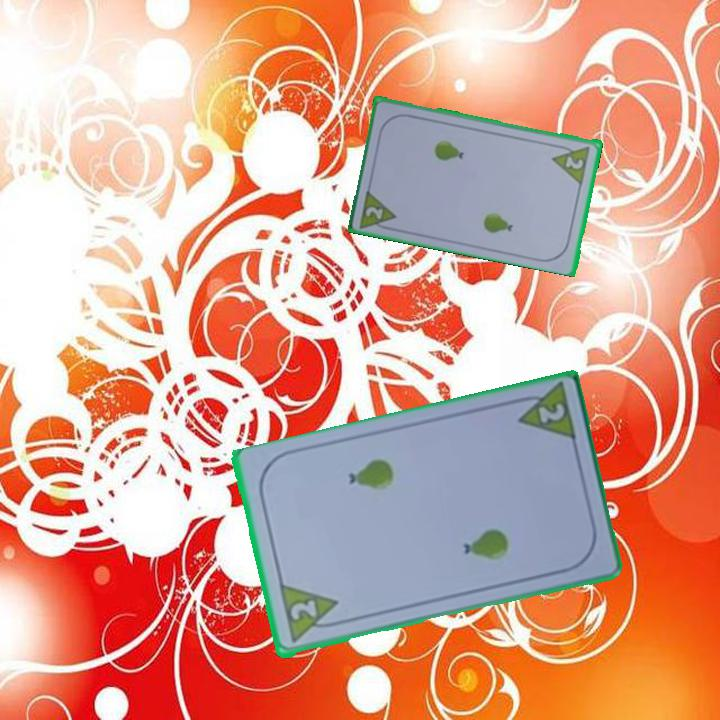2p: (508, 381, 579, 446), (275, 582, 344, 647), (356, 185, 400, 234), (562, 152, 587, 172)
